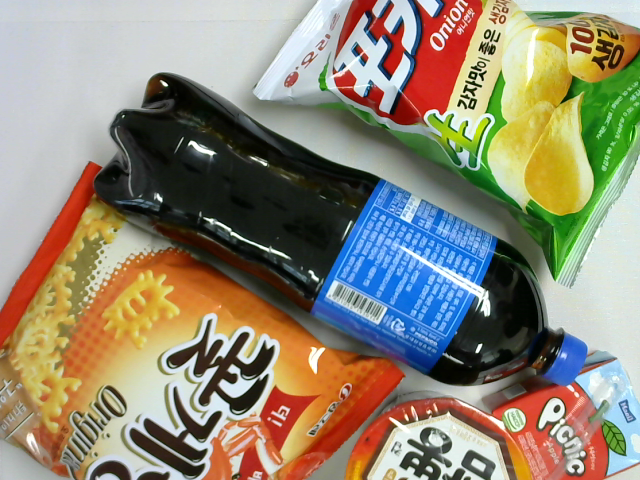Crabrang: (3, 161, 405, 480)
Ojjam: (343, 391, 530, 480)
Pepsi_Cola_1.5L: (93, 71, 589, 386)
Picnic_Apple: (481, 347, 639, 480)
Pocachip_Onion: (250, 1, 638, 288)
